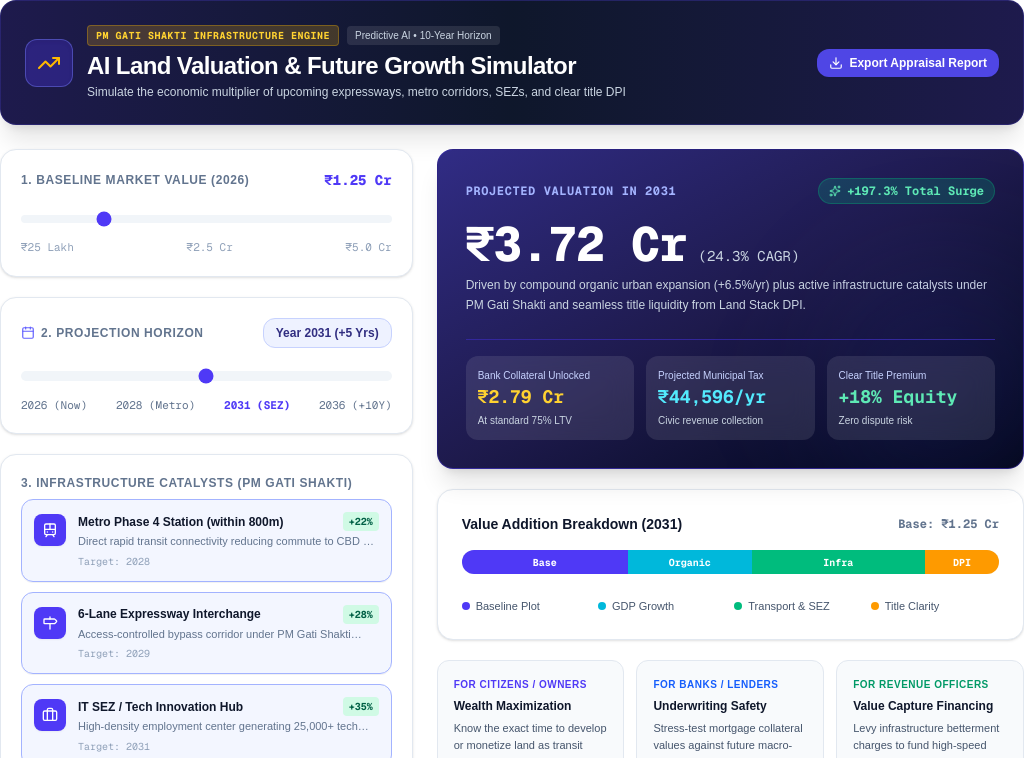
AI 5-10 Year Land Valuation & Growth Simulator › updates projected valuation when scrubbing timeline slider
Set the slider below "2. Projection Horizon" to "2036" at (384, 376), box [21,370,392,380]
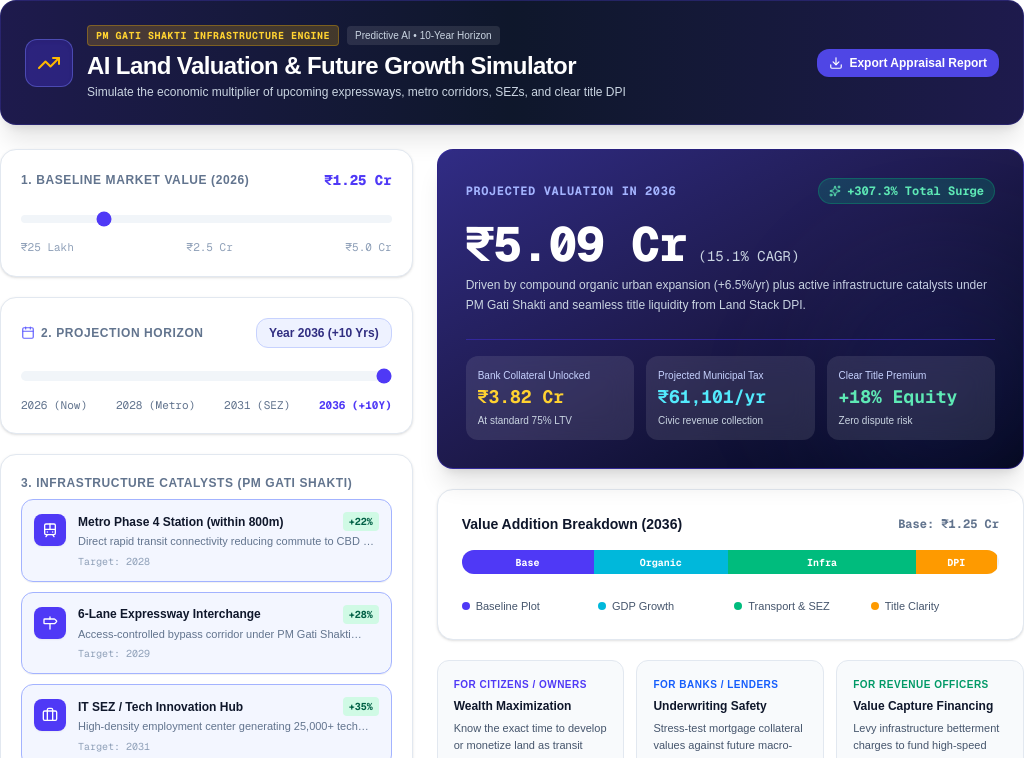
Check: the text "Bank Collateral Unlocked" is shown, box [478,370,590,381]
Check: the text "Year 2036 (+10 Yrs)" is shown, box [256,318,392,348]
